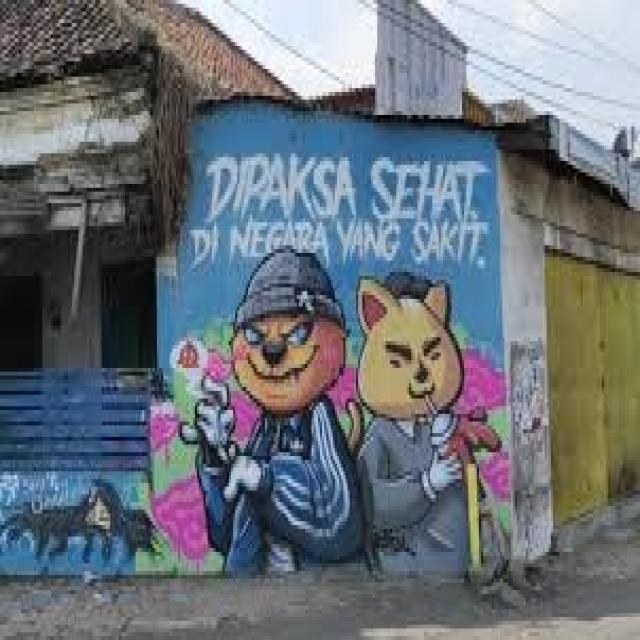-: (176, 150, 504, 584), (3, 478, 159, 573)
